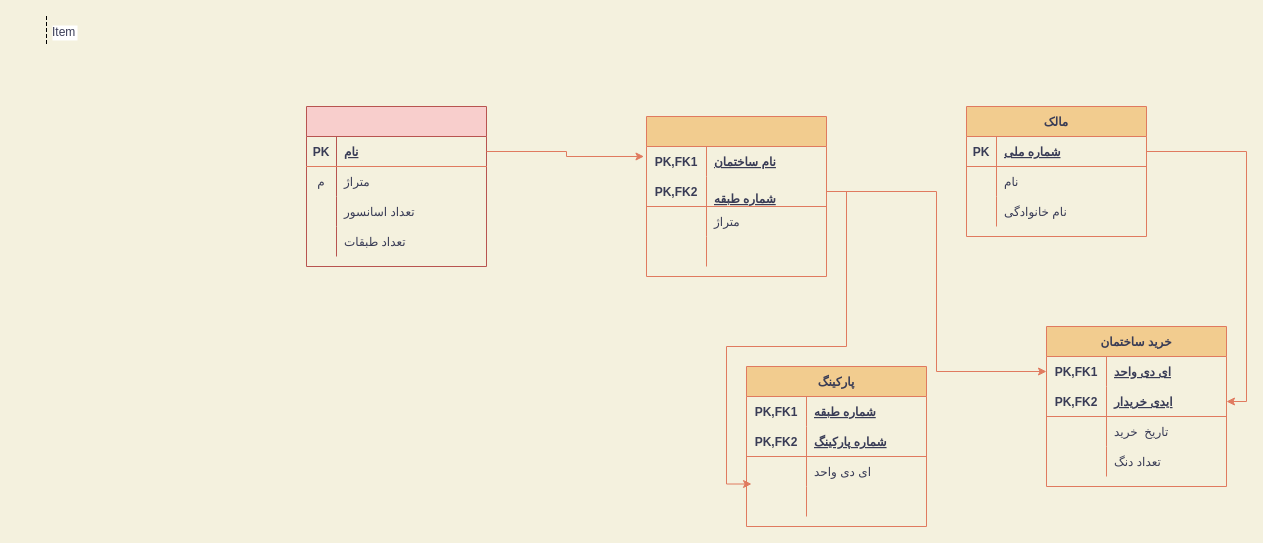
Some shapes in this 1263 by 543 pixel diagram are drawn without their labels. The shapes that lost their labels are listed below. From the top down, each one's box as (x1, y1, x2, y2) in pixels, then its label:
(306, 106, 486, 266): ساختمان
(646, 116, 826, 276): واحد
